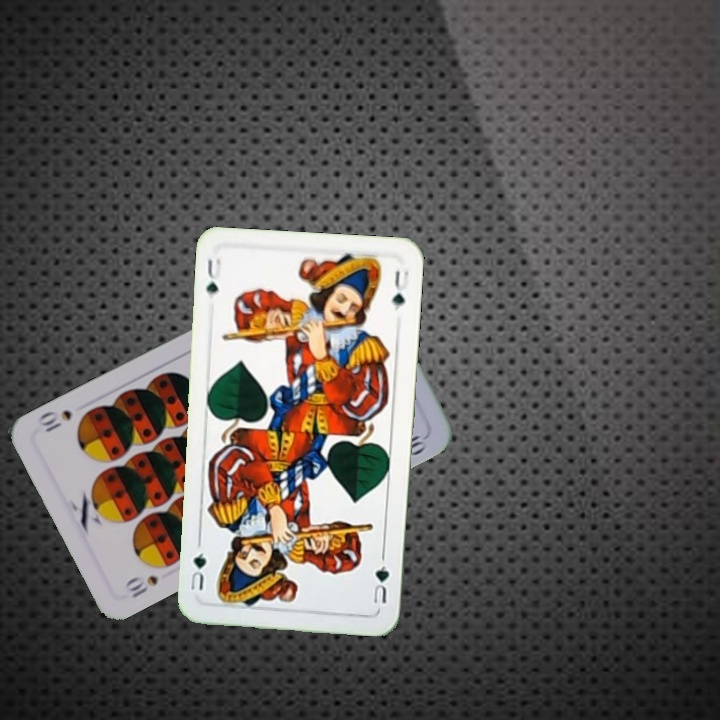GU: (369, 551, 392, 606), (202, 254, 224, 301)
S10: (121, 571, 161, 601)
